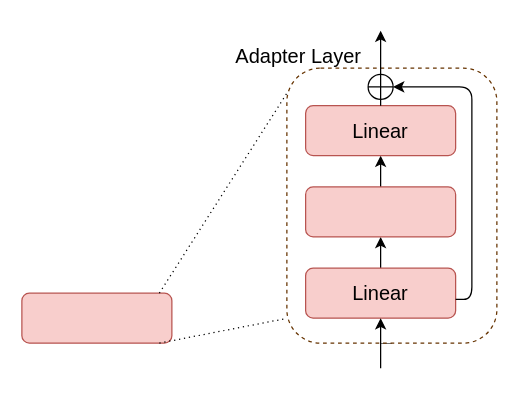
Image size: 519x400. Some labels were removed from this diagram. Each missing label, with the centre of its shape:
"Adapter" belongs at point 96,317.
"ReLU" belongs at point 380,211.
